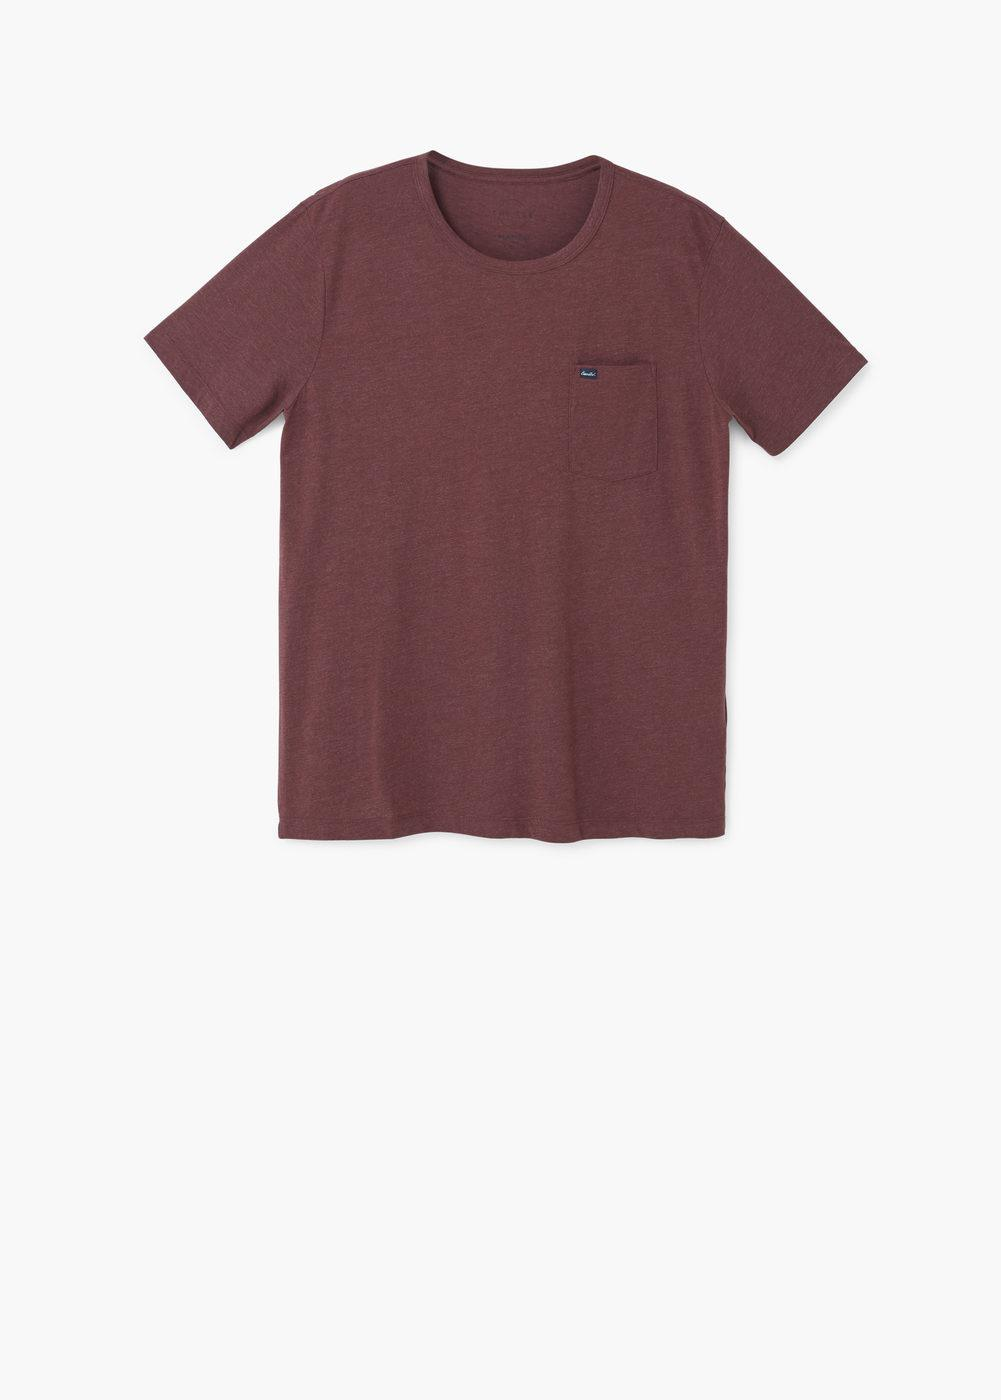teeshirt: (112, 142, 912, 897)
